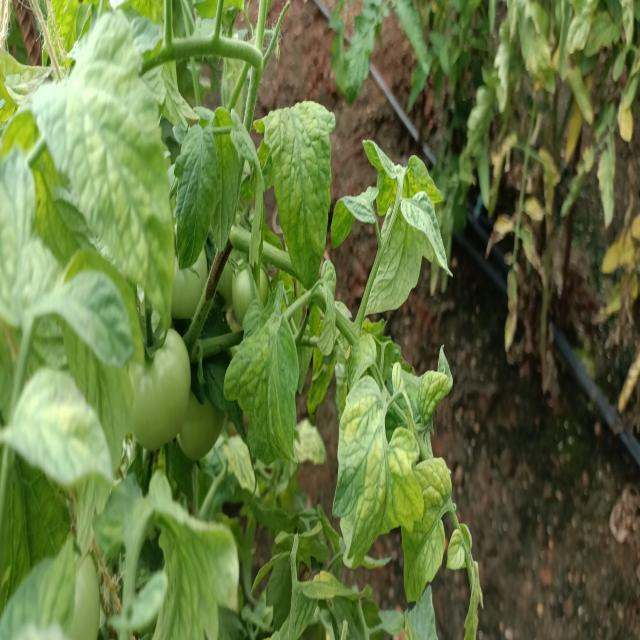Healthy Leaf: (30, 0, 182, 285), (328, 393, 419, 564), (262, 99, 334, 282), (229, 295, 295, 468), (17, 274, 141, 364), (169, 119, 219, 269), (403, 188, 456, 278)
